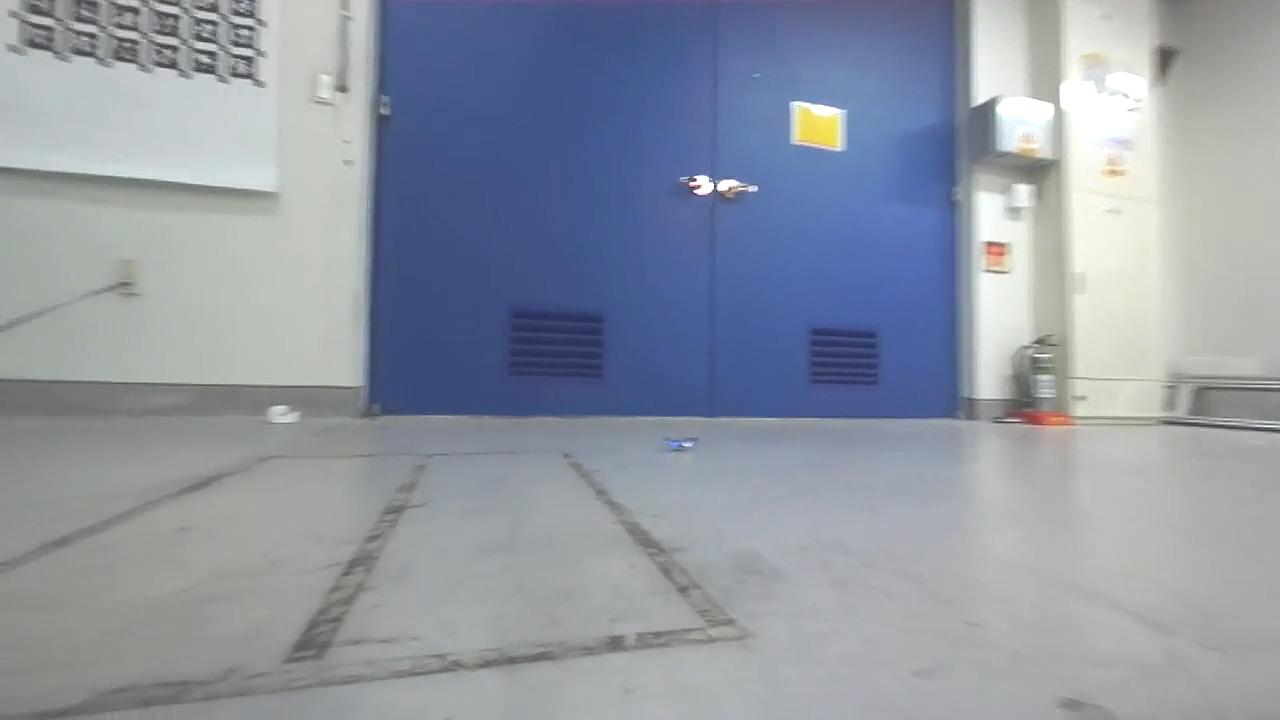crazyflie: (659, 430, 703, 460)
